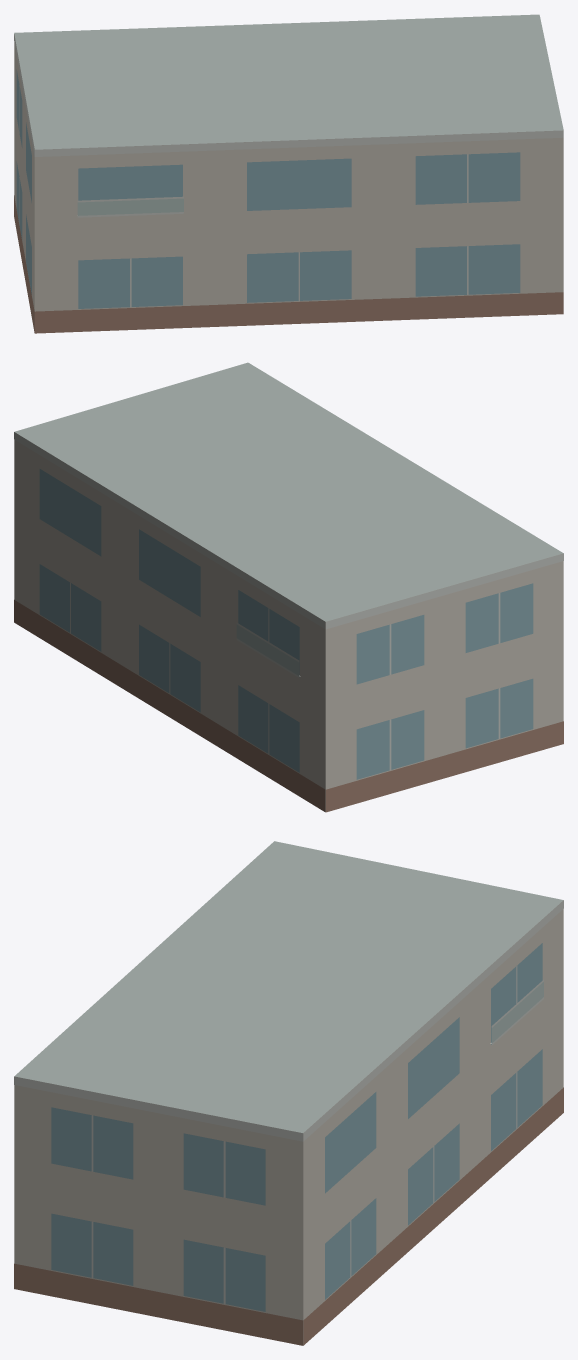
File: survey-upis-32659022.glb
3 renders of one model, top to bottom at view 1: azimuth 30°, elevation 25°; view 2: azimuth 150°, elevation 25°; view 3: azimuth 270°, elevation 25°, orthographic. The views are drawn at different scales.
Parts seen in each view (by area): view 1: survey-upis-32659022.tmp; view 2: survey-upis-32659022.tmp; view 3: survey-upis-32659022.tmp.
Boxes of the visible parts, box(x1,y1,x2,y2) form: survey-upis-32659022.tmp: box(14, 14, 563, 333); survey-upis-32659022.tmp: box(14, 362, 563, 812); survey-upis-32659022.tmp: box(14, 841, 563, 1345).
Size of the model in its own units: 17.99 by 6.1 by 14.3.
